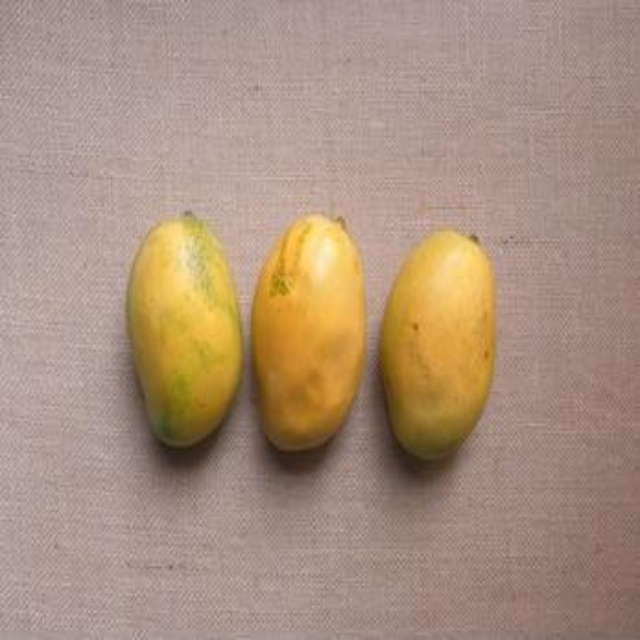mango: (374, 229, 501, 465), (251, 212, 360, 465), (128, 220, 234, 447)
